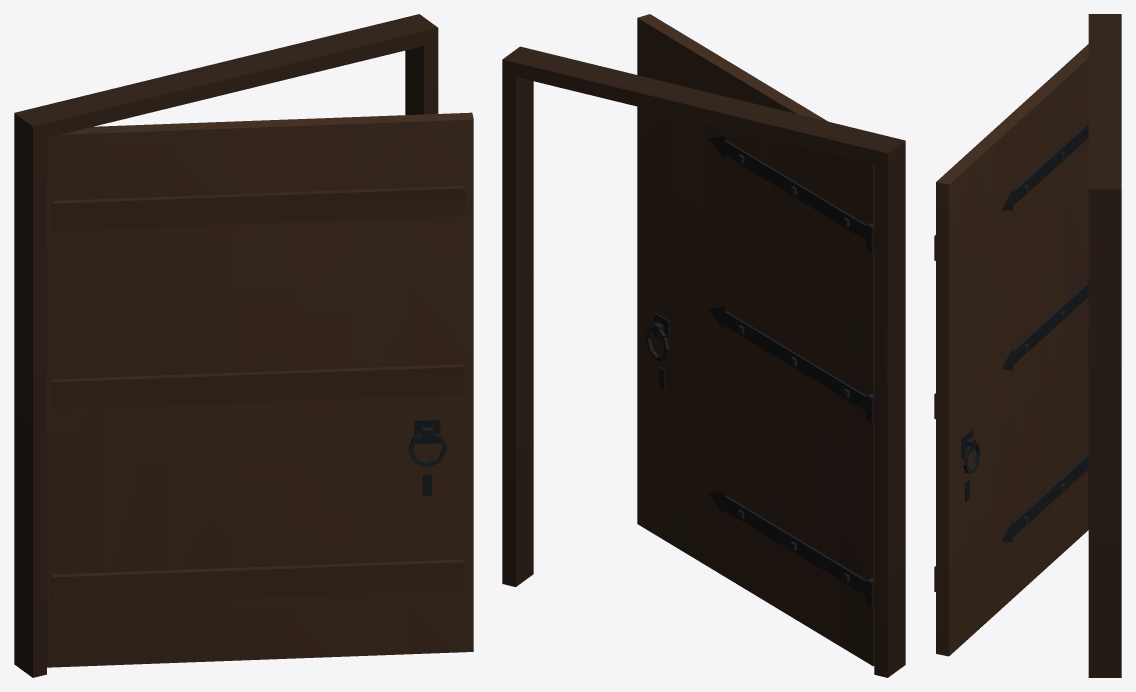
File: door.oak_ajar.dark.glb
3 renders of one model, left to right at view 1: azimuth 30°, elevation 25°; view 2: azimuth 150°, elevation 25°; view 3: azimuth 270°, elevation 25°, orthographic. The views are drawn at different scales.
Visible parts, largest first — view 1: door_oak_ajar_dark; view 2: door_oak_ajar_dark; view 3: door_oak_ajar_dark.
Boxes of the visible parts, <box> form: door_oak_ajar_dark: <box>14,14,473,677</box>; door_oak_ajar_dark: <box>502,14,905,677</box>; door_oak_ajar_dark: <box>934,14,1121,677</box>.
Size of what is drawn, in the model's own units: 2 by 2.6 by 0.9045.
